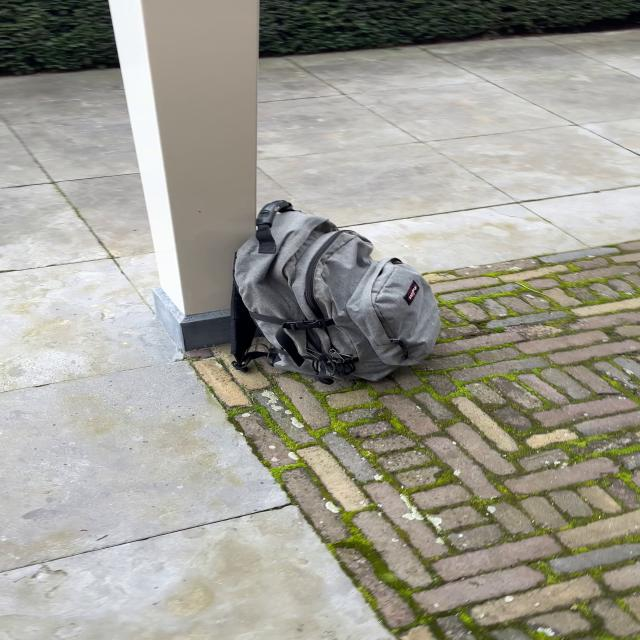backpack: (220, 195, 450, 391)
